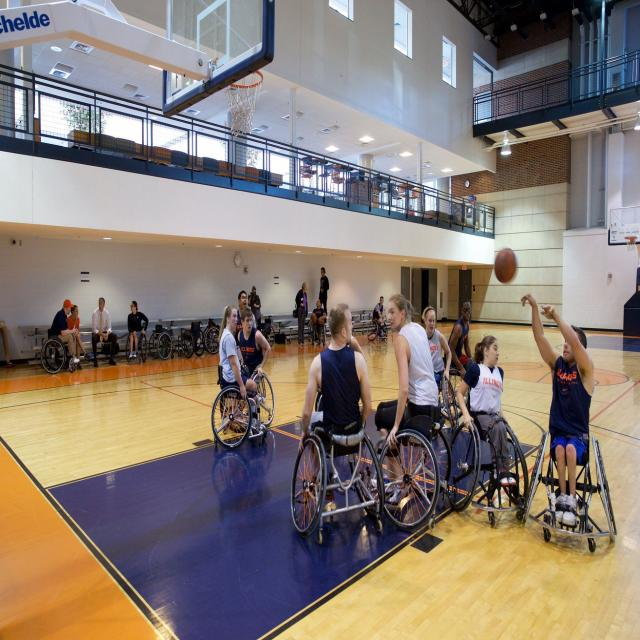body: (516, 291, 598, 529), (297, 305, 372, 501), (373, 291, 439, 506), (456, 334, 517, 488), (216, 304, 264, 434), (421, 305, 452, 394), (443, 298, 475, 381), (237, 307, 272, 379), (48, 298, 81, 366), (90, 296, 118, 369), (66, 304, 92, 370), (232, 290, 258, 346), (127, 300, 149, 359), (292, 280, 309, 346), (343, 316, 366, 361), (247, 285, 262, 333), (312, 298, 327, 345), (372, 295, 388, 339), (318, 267, 330, 324)
